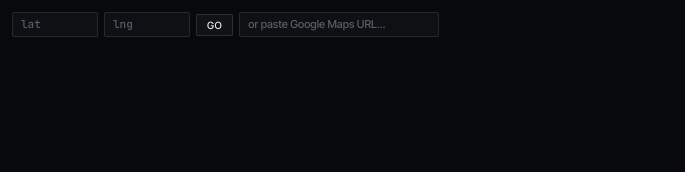
Test: CoordInput › shows validation error when latitude is out of range
This screenshot has width=685, height=172.
Type "999" into the number field with test id "lat-input" at [55, 25], box [12,12,98,37]
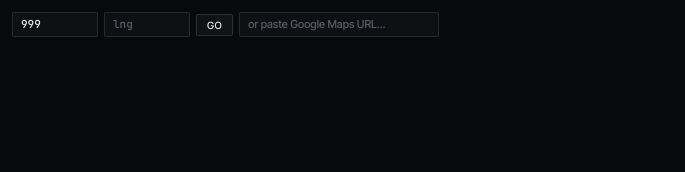
Type "0" into the number field with test id "lng-input" at [147, 25], box [104,12,190,37]
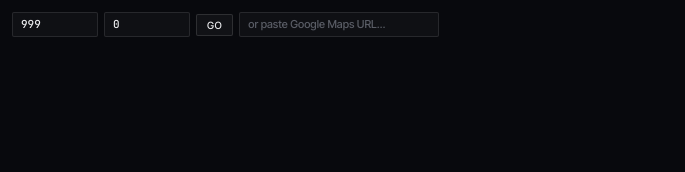
Submit the form with test id "coord-input-form", box [12,12,439,37]
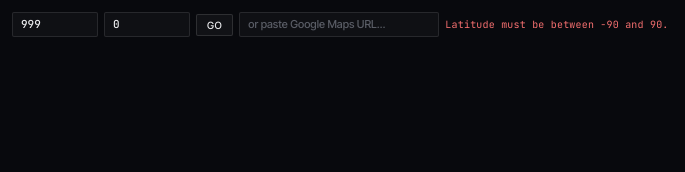
Now the message "Latitude must be between -90 and 90." is shown, box [445,17,668,32]
